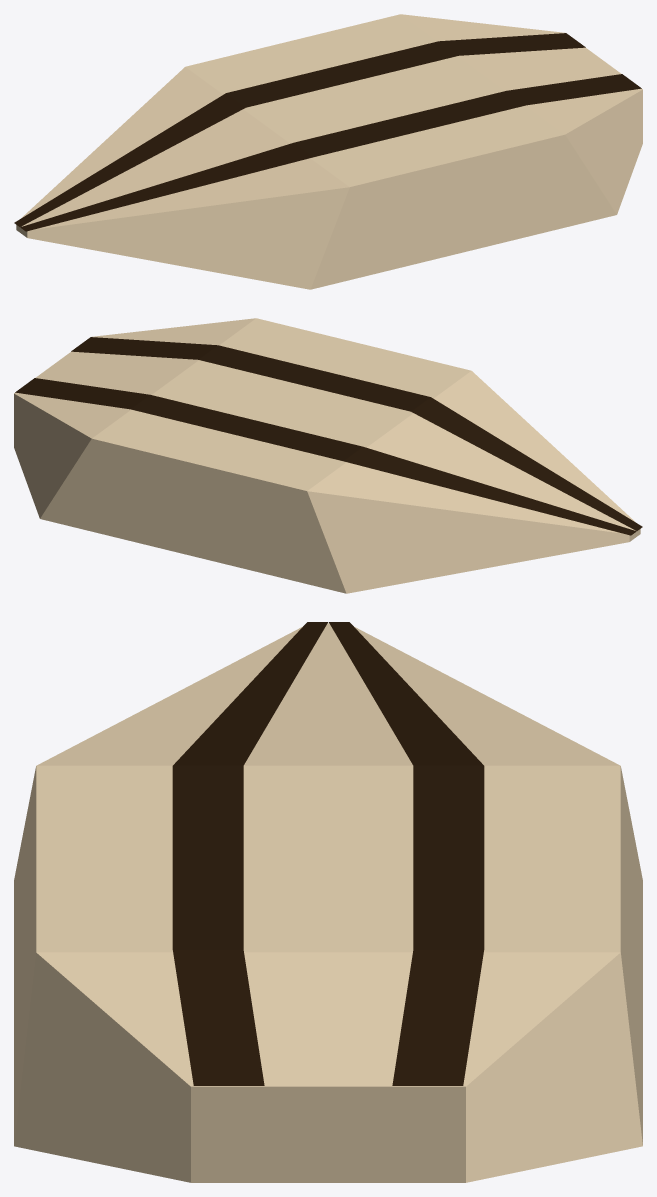
Rendered from seed.fbx.
The picture shows the model from 3 angles, top to bottom: view 1: azimuth 30°, elevation 25°; view 2: azimuth 150°, elevation 25°; view 3: azimuth 270°, elevation 25°; orthographic projection. The views are drawn at different scales.
Visible parts, largest first — view 1: Cube, Plane; view 2: Cube, Plane; view 3: Cube, Plane.
Boxes of the visible parts, x1,y1,x2,y2 form: Cube: [16, 14, 642, 289]; Plane: [14, 33, 641, 231]; Cube: [14, 318, 640, 593]; Plane: [15, 337, 642, 535]; Cube: [14, 623, 642, 1182]; Plane: [172, 622, 484, 1085].
Size of the model in its own units: 386 by 55.56 by 202.
